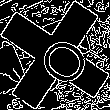O_NW: (22, 23, 88, 87)
